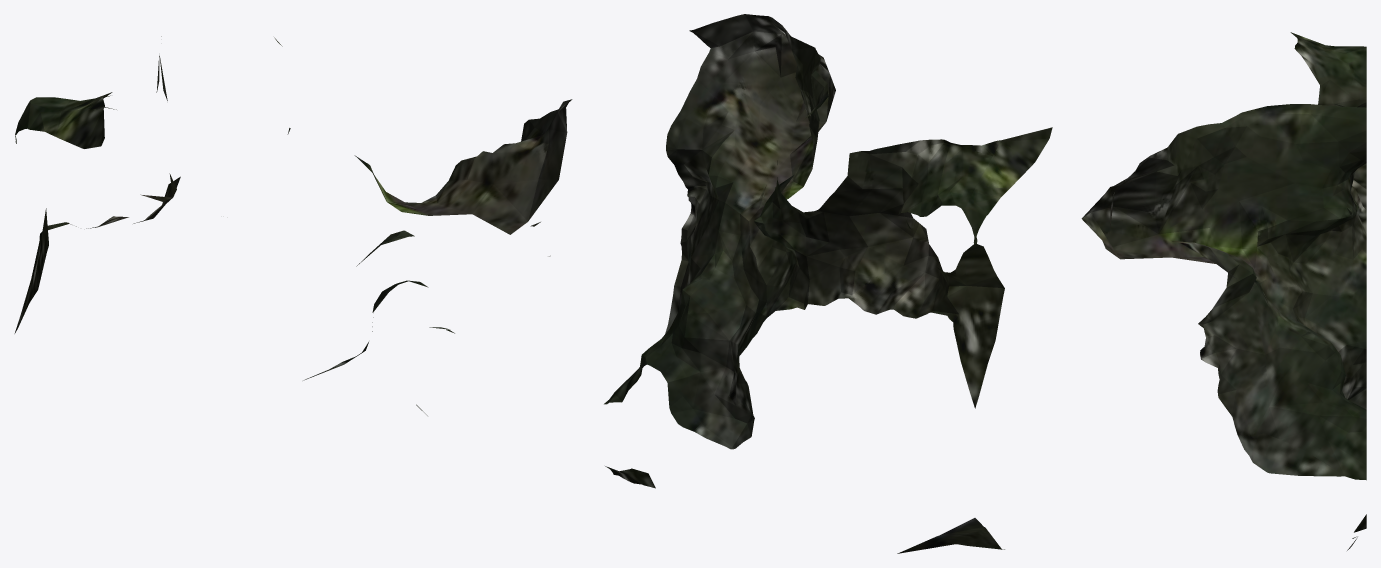
The picture shows the model from 3 angles, left to right: view 1: azimuth 30°, elevation 25°; view 2: azimuth 150°, elevation 25°; view 3: azimuth 270°, elevation 25°; orthographic projection. The views are drawn at different scales.
Size of the model in its own units: 1.67 by 1.67 by 1.17.
3 materials, 3 textured.
